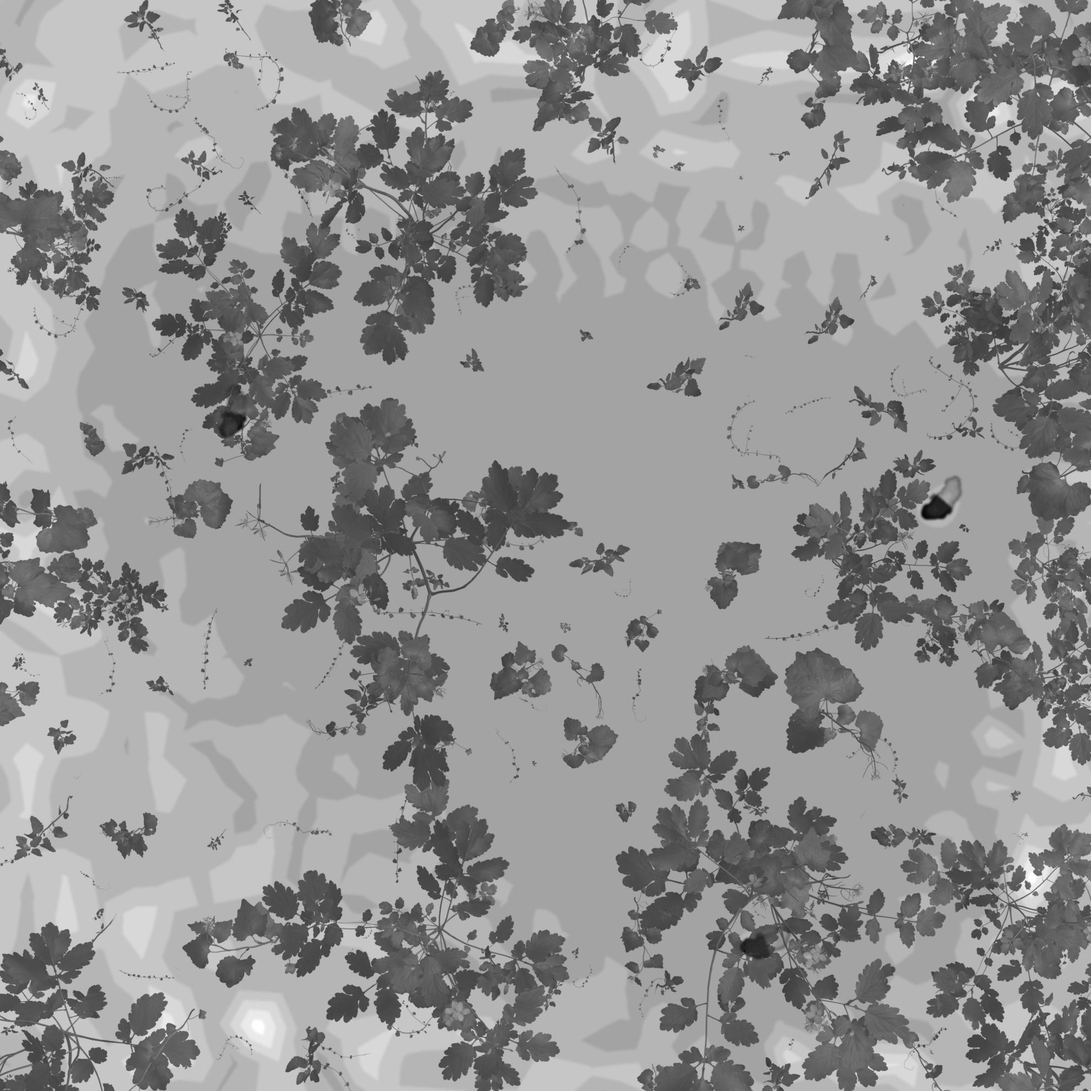landmine: (918, 473, 967, 523)
